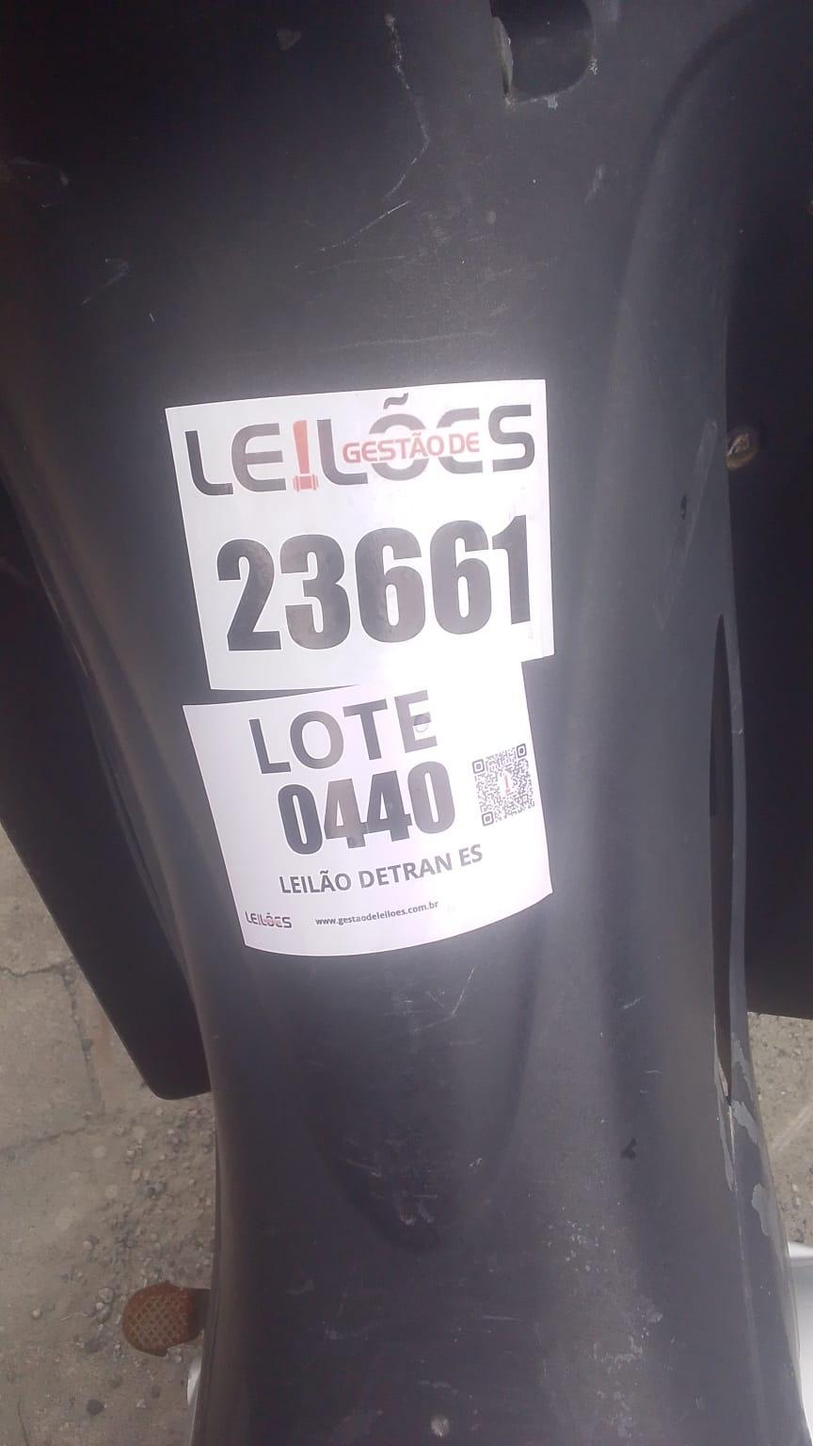numeros: (214, 507, 538, 663)
